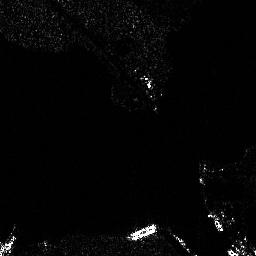ship: (126, 224, 157, 241), (209, 212, 224, 232)
